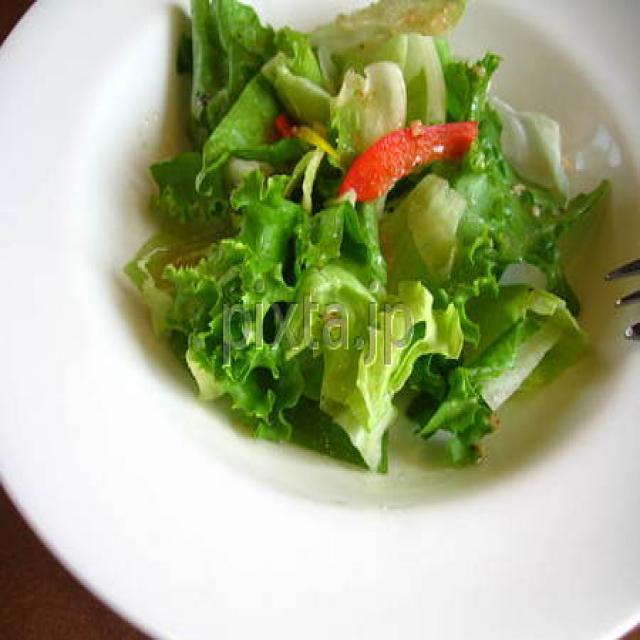Green Salad: (102, 6, 610, 456)
